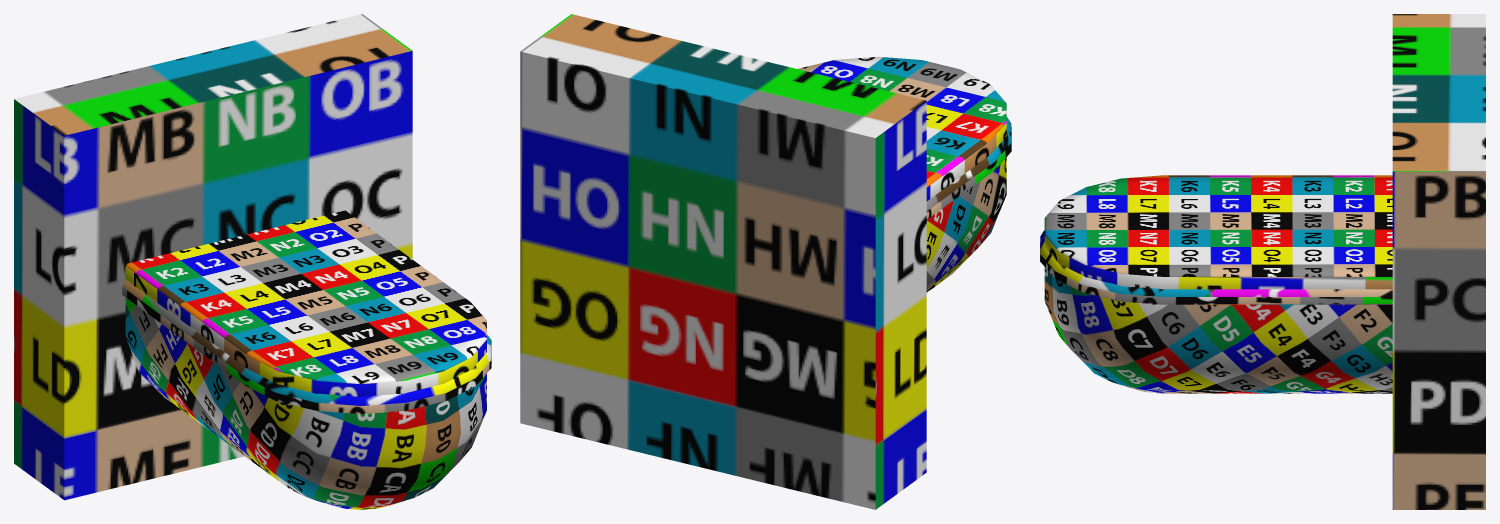
File: toilet.FBX
3 views of the same model, side by side, from view 1: azimuth 30°, elevation 25°; view 2: azimuth 150°, elevation 25°; view 3: azimuth 270°, elevation 25° (orthographic). The views are drawn at different scales.
Visible parts, largest first — view 1: Toilet; view 2: Toilet; view 3: Toilet.
Part boxes in pixels (left/top/right/bottom): Toilet: left=14, top=14, right=491, bottom=509; Toilet: left=520, top=14, right=1011, bottom=509; Toilet: left=1040, top=14, right=1485, bottom=509.
Size of the model in its own units: 0.9841 by 0.9841 by 1.18.
1 material, 1 textured.
